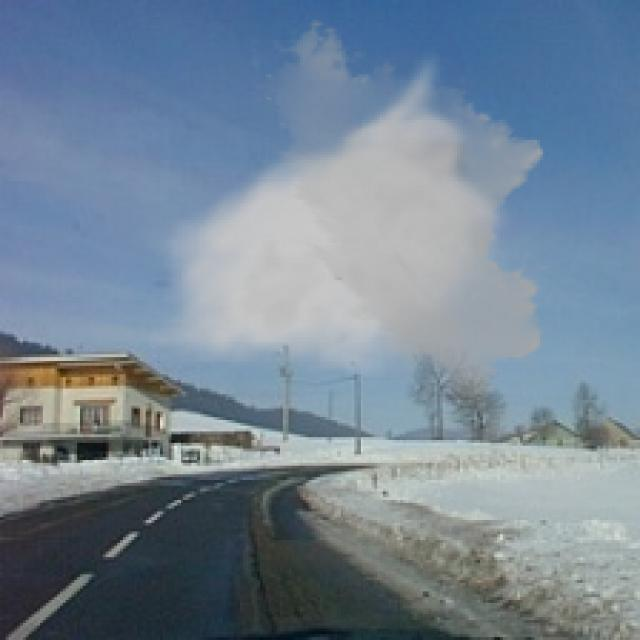Smoke: (148, 17, 554, 409)
